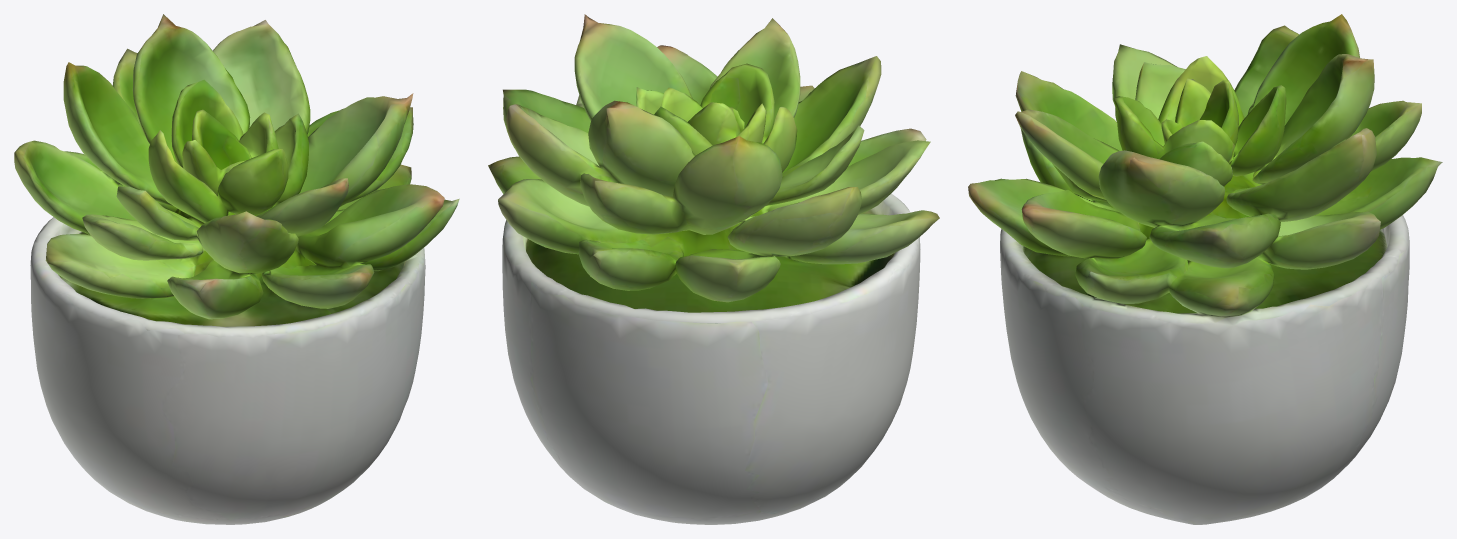
File: 16_succulent.glb
The picture shows the model from 3 angles, left to right: view 1: azimuth 30°, elevation 25°; view 2: azimuth 150°, elevation 25°; view 3: azimuth 270°, elevation 25°; orthographic projection. The views are drawn at different scales.
Parts seen in each view (by area): view 1: geometry_0; view 2: geometry_0; view 3: geometry_0.
Part boxes in pixels (x1,y1,x2,y2): geometry_0: [14, 14, 459, 524]; geometry_0: [488, 14, 939, 524]; geometry_0: [968, 14, 1442, 524].
Bounding box in the file's own units: 1.89 × 1.9 × 1.89.
Materials: 1 (1 with a texture image).
